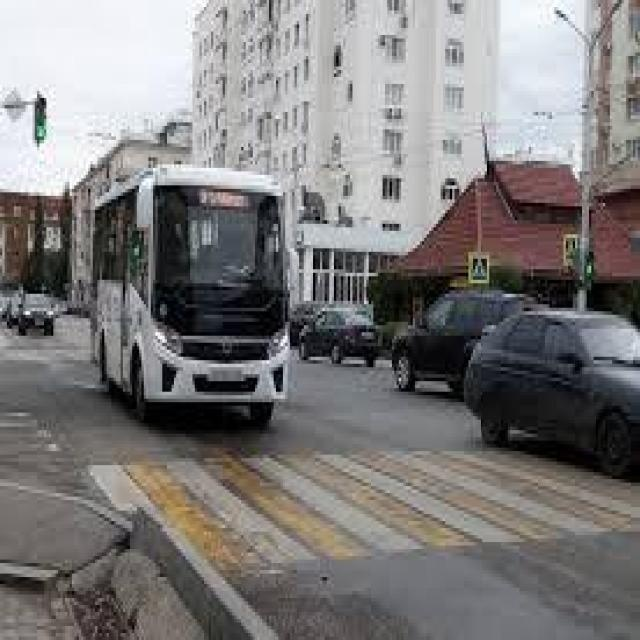Bus: (79, 154, 308, 455)
